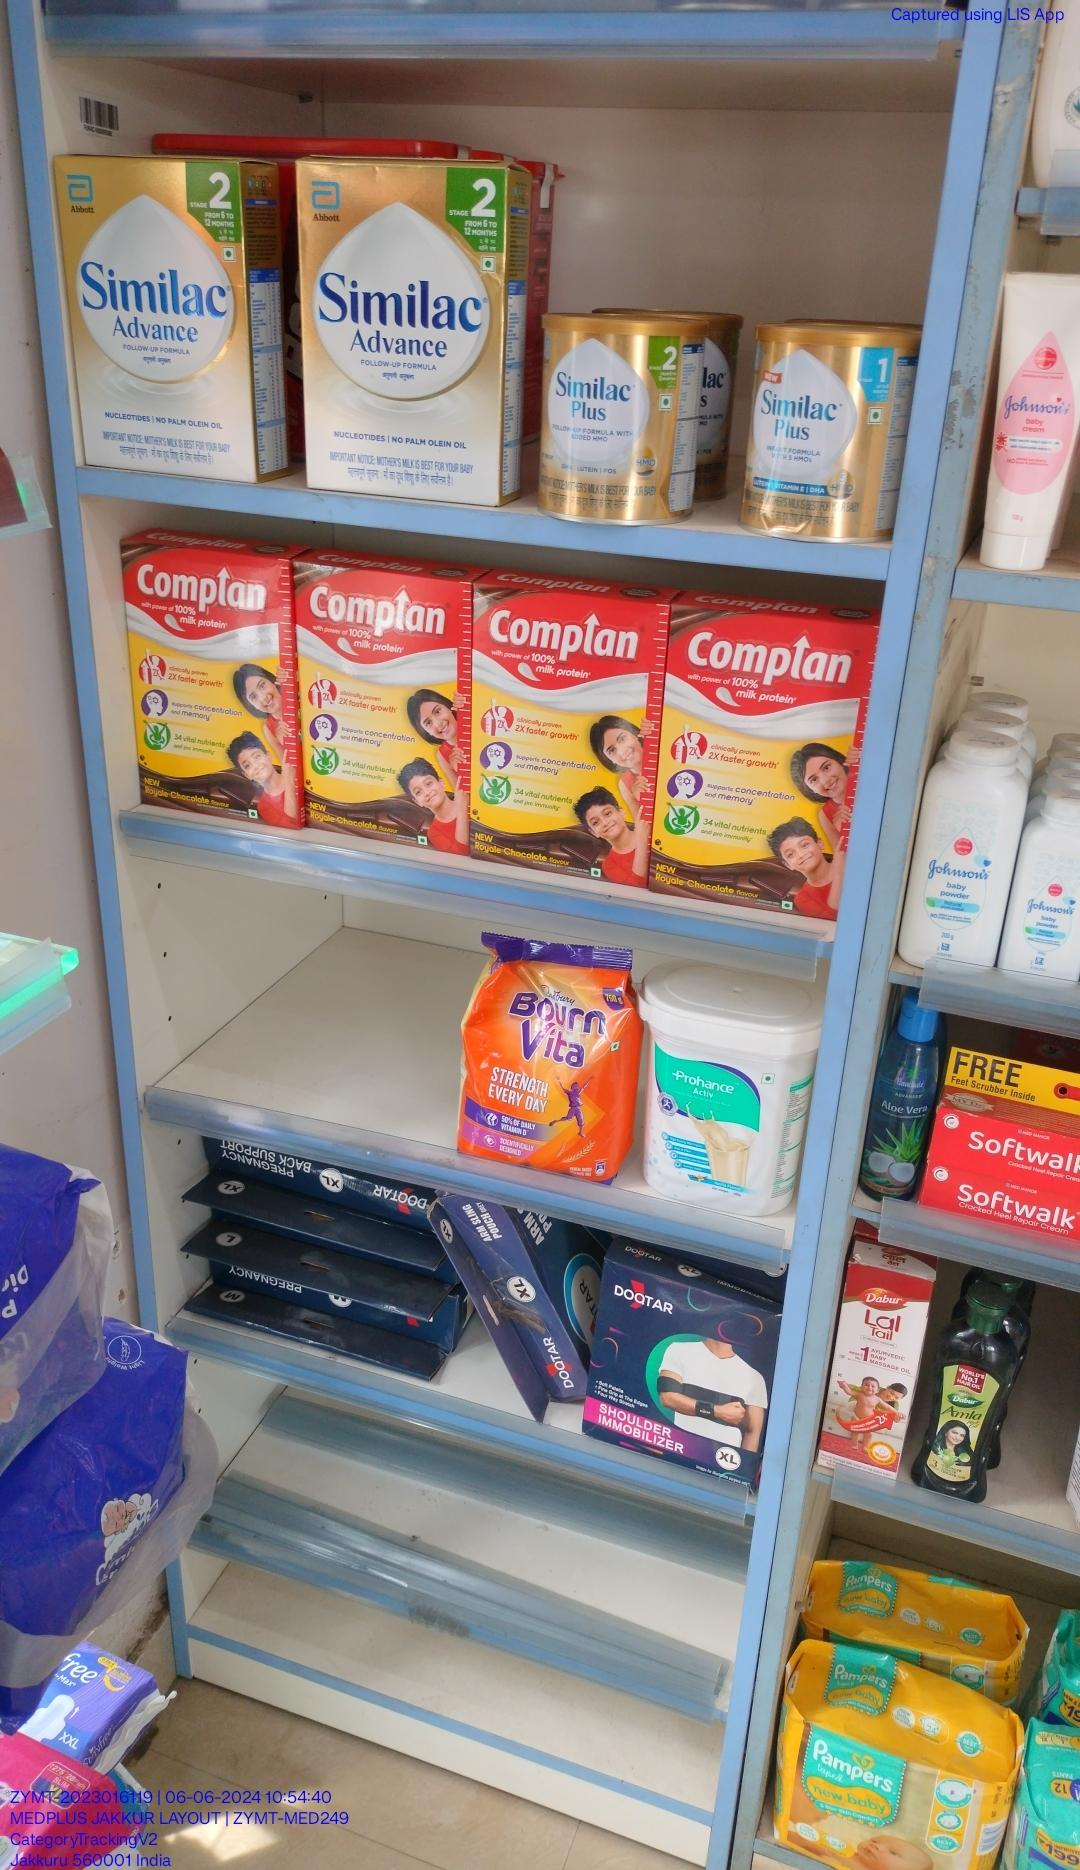COMPLAN_CHOCOLATE_500_GMS_PACK: (672, 603, 860, 928), (289, 569, 467, 852), (477, 592, 642, 882), (122, 565, 283, 829)
